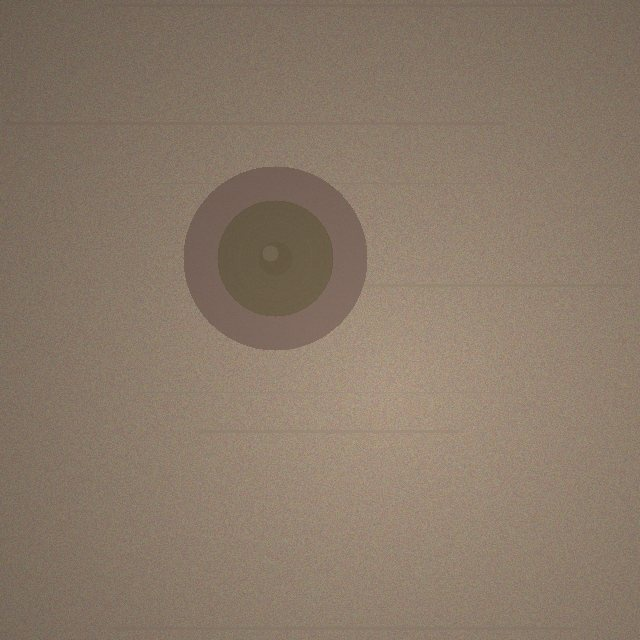good: (183, 166, 367, 350)
